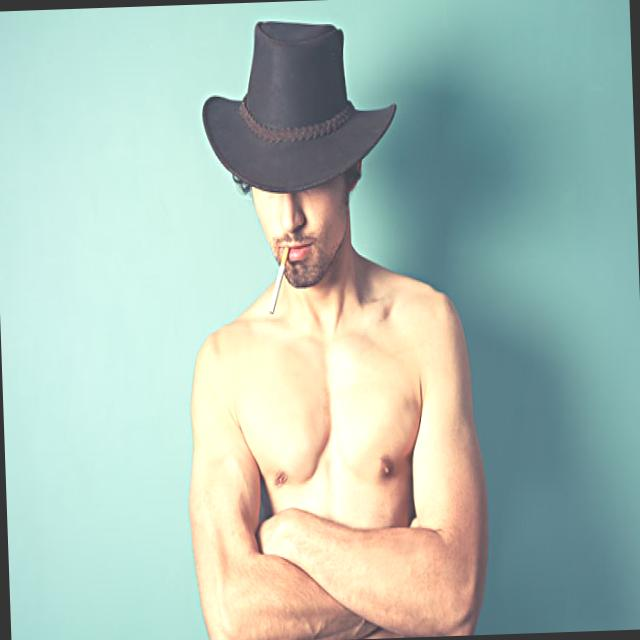smoke: (264, 242, 294, 320)
